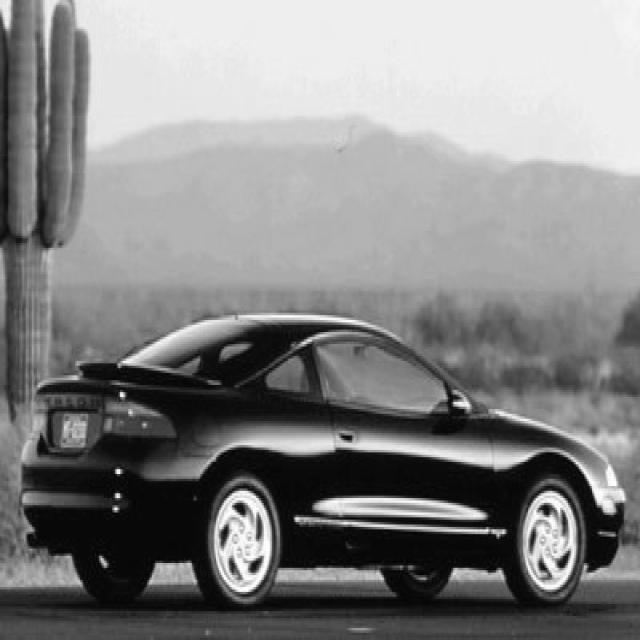car: (19, 310, 626, 609)
plat_license: (62, 413, 88, 445)
